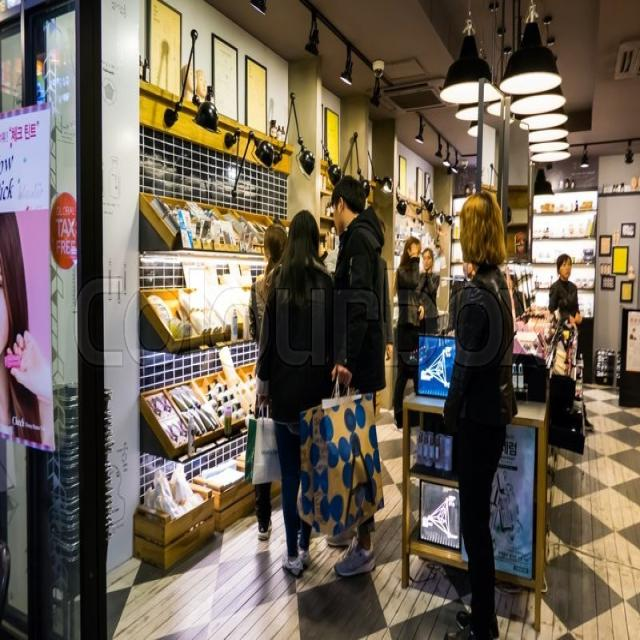body: (438, 187, 519, 639), (252, 208, 338, 580), (326, 173, 388, 579), (246, 222, 304, 542), (0, 211, 54, 448), (394, 233, 429, 435), (548, 251, 584, 337), (378, 215, 394, 363), (418, 246, 442, 336), (458, 250, 484, 292)
